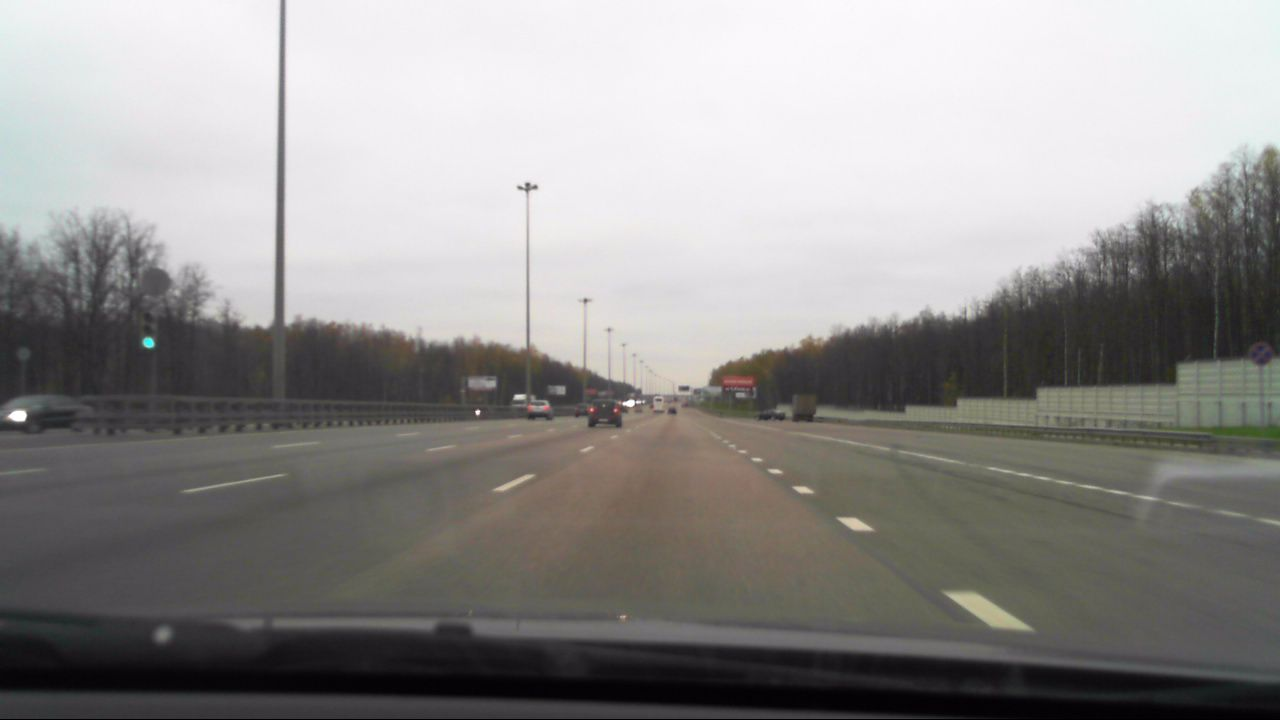No Parking: (1250, 344, 1272, 364)
